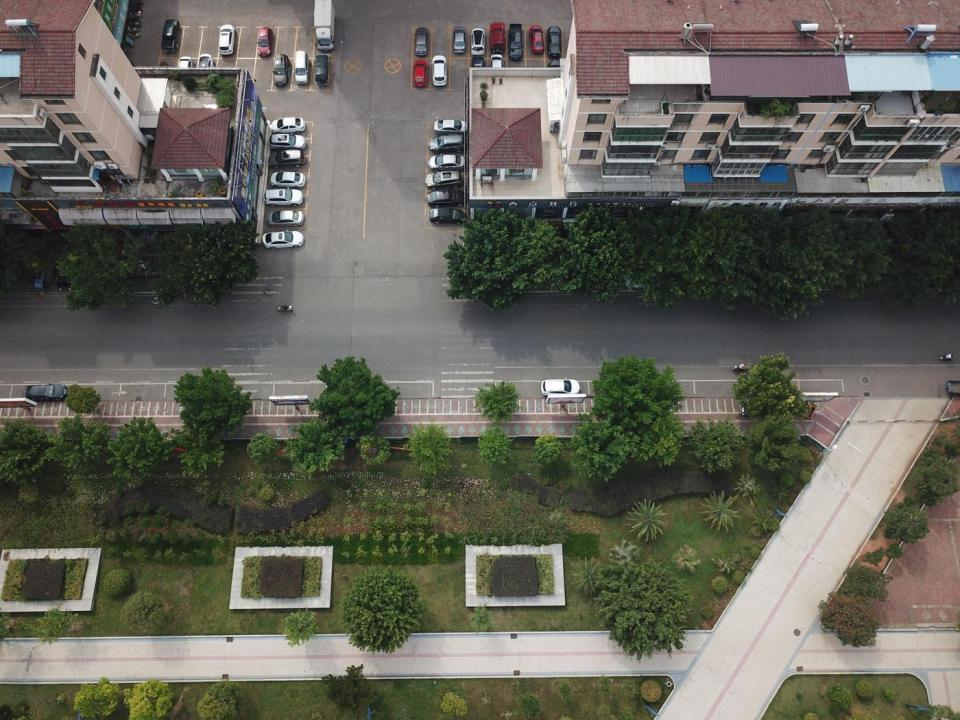car: (624, 267, 666, 288), (22, 382, 69, 400), (426, 188, 466, 207), (540, 377, 580, 396), (262, 230, 304, 248), (428, 134, 465, 154), (425, 170, 462, 190), (268, 149, 305, 168), (428, 207, 466, 225), (267, 209, 304, 227), (428, 154, 465, 172), (264, 189, 303, 205), (270, 133, 306, 150), (434, 118, 468, 136), (271, 171, 306, 188), (272, 116, 305, 134), (256, 26, 274, 57), (218, 25, 236, 54), (273, 54, 289, 86), (314, 55, 330, 86), (198, 54, 214, 83), (547, 26, 561, 59), (432, 56, 447, 86), (528, 26, 544, 54), (412, 59, 427, 88), (490, 21, 504, 52), (470, 27, 485, 55), (548, 60, 563, 88), (178, 55, 194, 80), (415, 27, 428, 56), (453, 26, 466, 54), (471, 54, 484, 82), (490, 56, 503, 83)
truck: (314, 0, 336, 51), (161, 19, 181, 52), (508, 23, 524, 60)
van: (295, 51, 308, 84)
